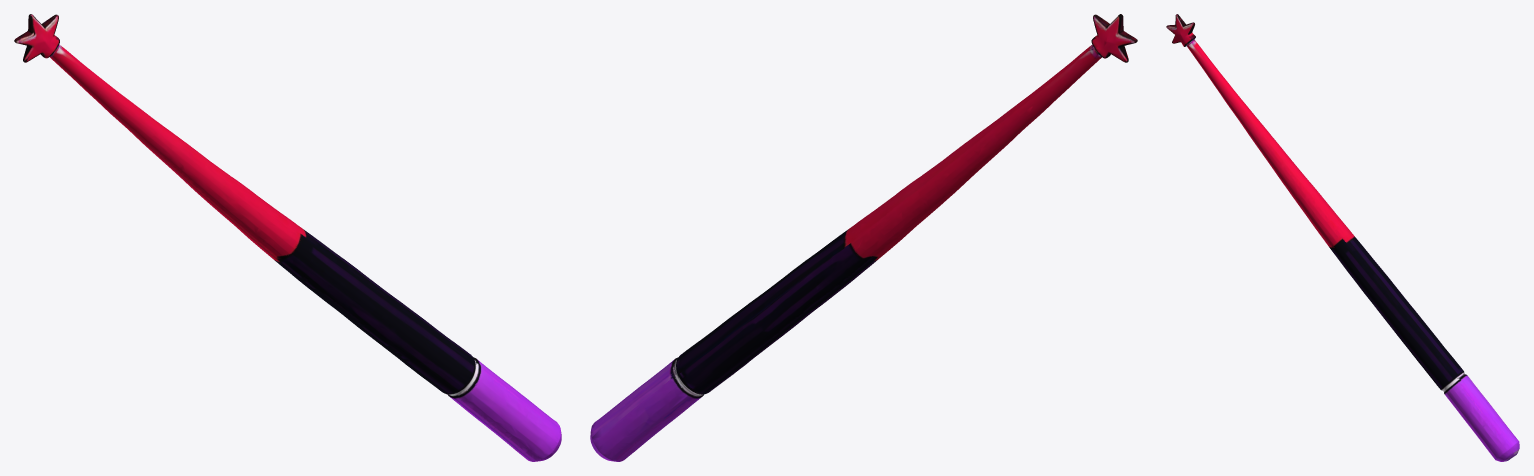
The model's file is 魔术棒.glb.
The picture shows the model from 3 angles, left to right: view 1: azimuth 30°, elevation 25°; view 2: azimuth 150°, elevation 25°; view 3: azimuth 330°, elevation 25°; orthographic projection. The views are drawn at different scales.
Visible parts, largest first — view 1: mesh; view 2: mesh; view 3: mesh.
Boxes of the visible parts, box(x1,y1,x2,y2) form: mesh: box(14, 14, 561, 461); mesh: box(590, 14, 1137, 461); mesh: box(1166, 14, 1519, 461).
Bounding box in the file's own units: 2 × 2 × 0.1471.
Materials: 1 (1 with a texture image).
